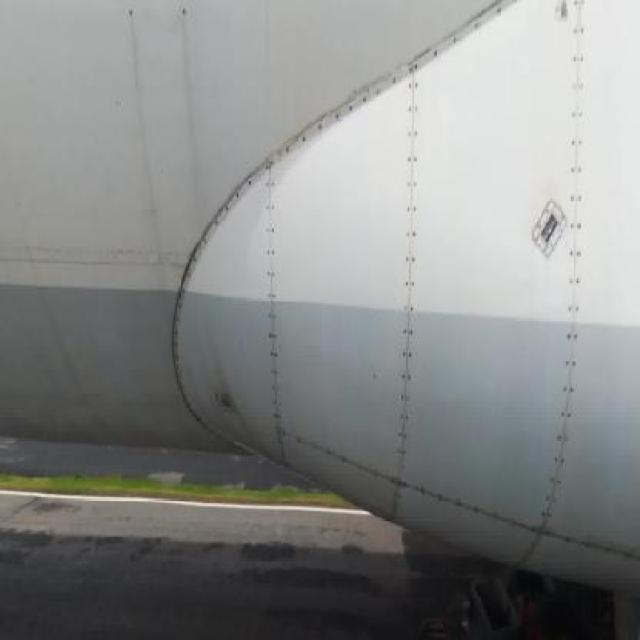Rust: (566, 537, 640, 605)
Scartch: (4, 213, 376, 256)
